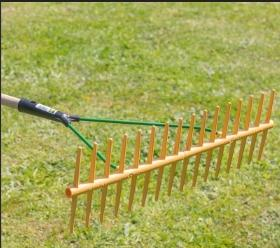RATEAU: (0, 67, 280, 248)
